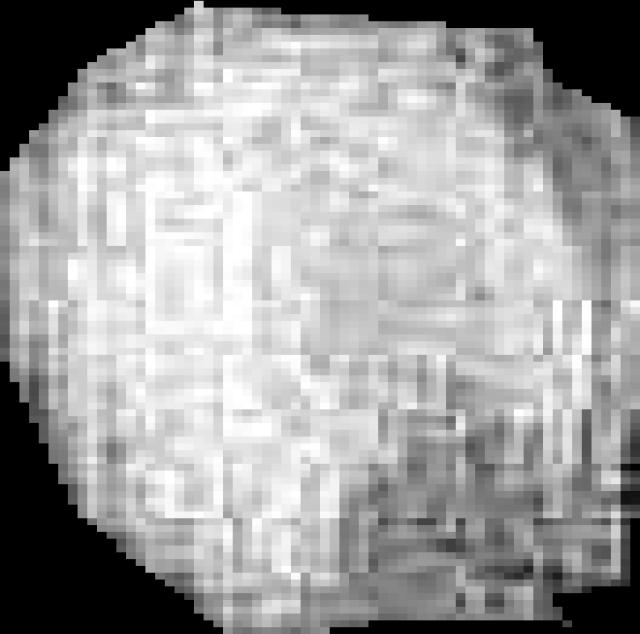tumor_good_chance: (0, 1, 640, 634)
